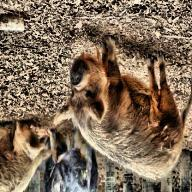boar: (63, 36, 192, 173), (0, 111, 55, 192), (27, 140, 98, 192)
